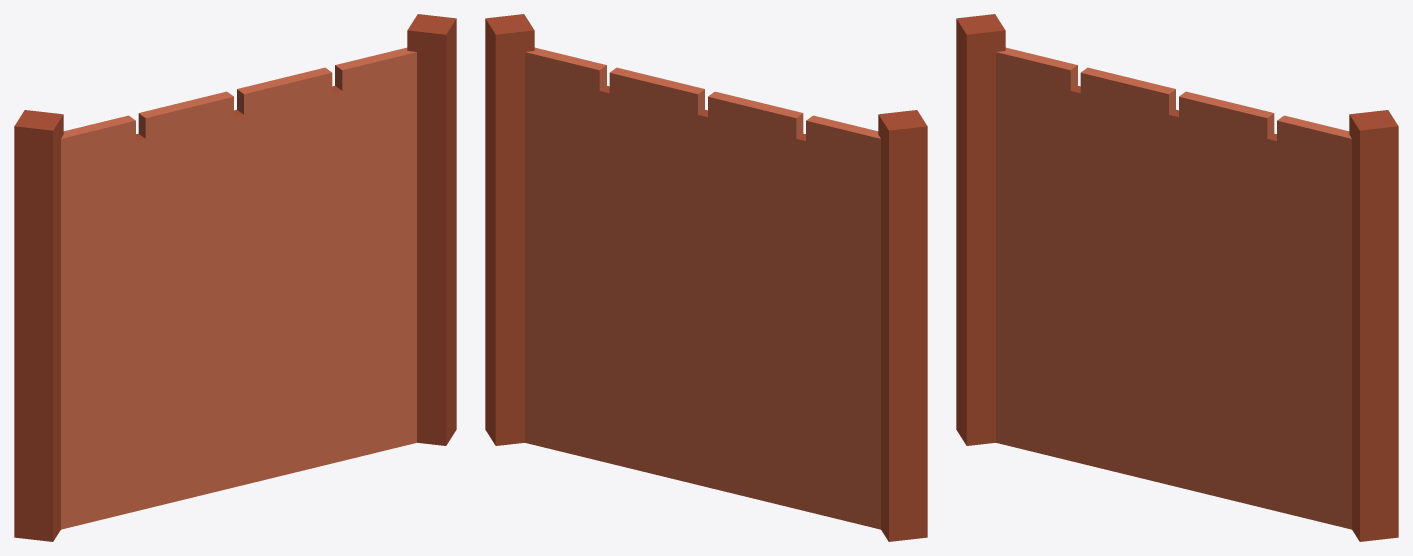
The model's file is fence-1.fbx.
3 renders of one model, left to right at view 1: azimuth 30°, elevation 25°; view 2: azimuth 150°, elevation 25°; view 3: azimuth 330°, elevation 25°, orthographic.
Parts seen in each view (by area): view 1: fence_garden; view 2: fence_garden; view 3: fence_garden.
Boxes of the visible parts, <box> form: fence_garden: <box>14,14,456,541</box>; fence_garden: <box>485,14,927,541</box>; fence_garden: <box>956,14,1398,541</box>.
Bounding box in the file's own units: 22.5 × 20 × 2.5.
Materials: 1 (1 with a texture image).
